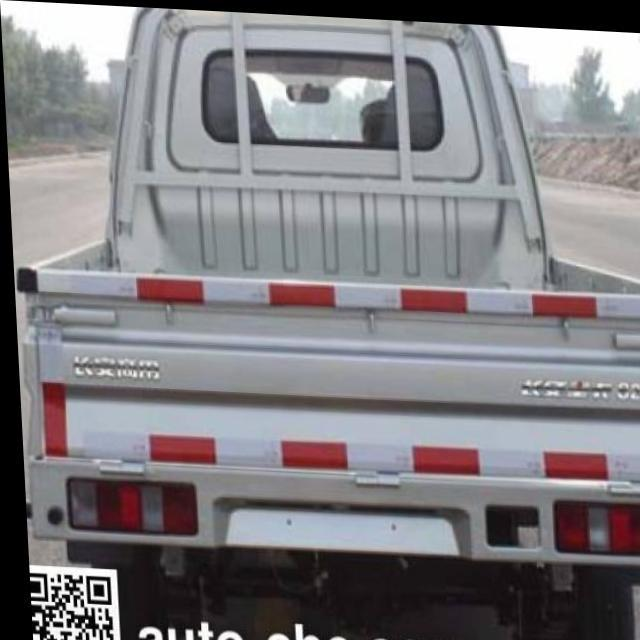uncovered: (17, 1, 640, 598)
